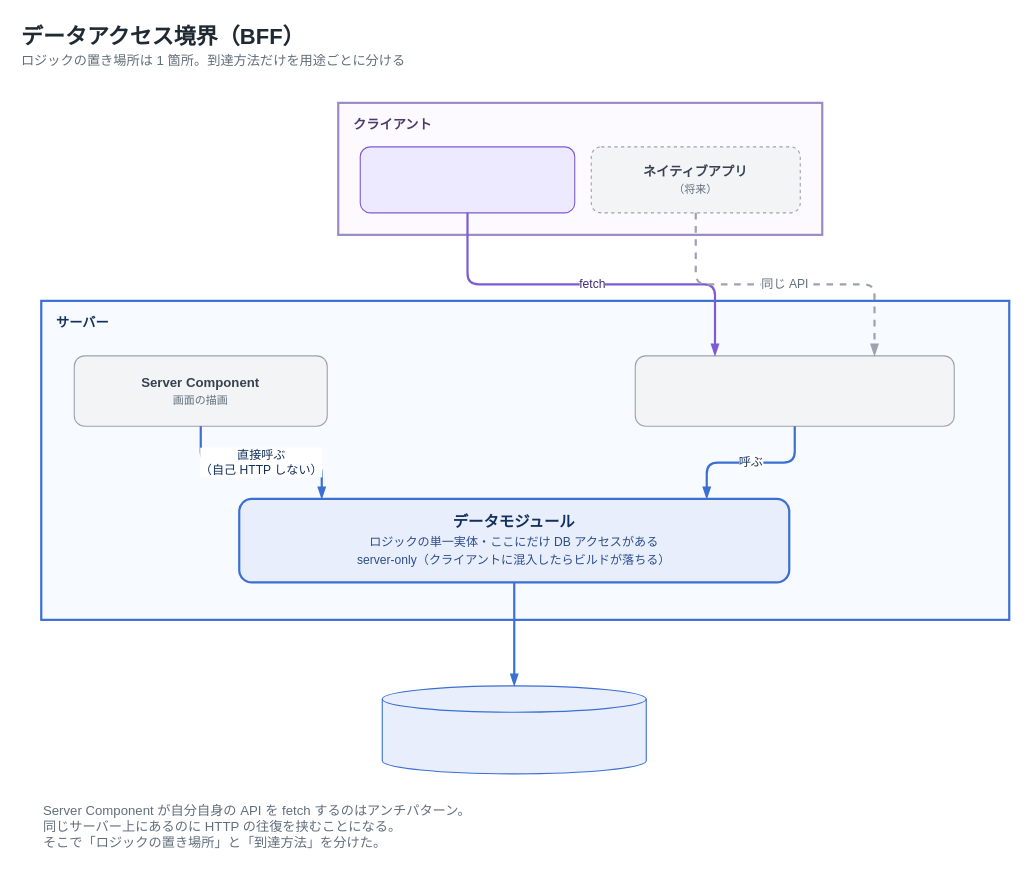
This 1029x891 diagram has some shape labels left out. The centre of each missing label's shape, as x and y in pixels:
API ルートハンドラ 薄い HTTP アダプタ 認証・入力検証・エラー整形のみ: the point at 794,390
Client Component ブラウザ: the point at 467,179
PostgreSQL RLS で行レベル制御: the point at 513,729
